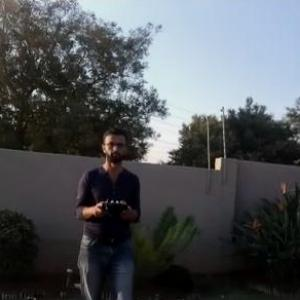follow: (69, 122, 146, 299)
